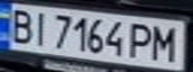1: (66, 15, 90, 52)
4: (103, 18, 130, 56)
6: (84, 16, 109, 55)
7: (48, 11, 72, 50)
B: (3, 6, 36, 44)
I: (27, 9, 54, 46)
M: (148, 22, 184, 63)
P: (124, 20, 157, 61)
